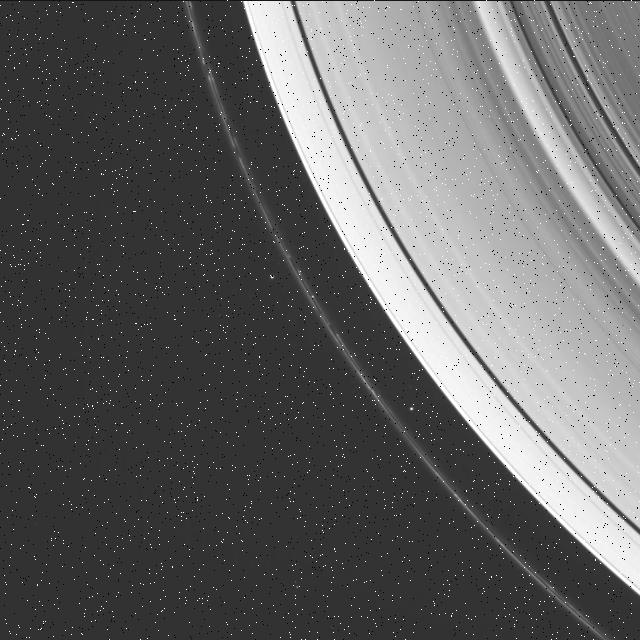Saturn: (172, 0, 640, 640)
